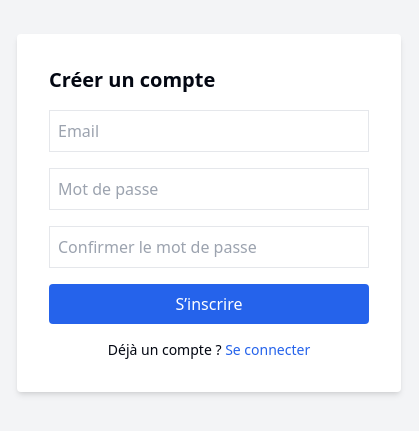
it: SignUp › affiche une erreur si les mots de passe ne correspondent pas
The width and height of the screenshot is (419, 431).
Type "test@mail.com" into the field with placeholder "Email" at [209, 131], box [49, 110, 369, 152]
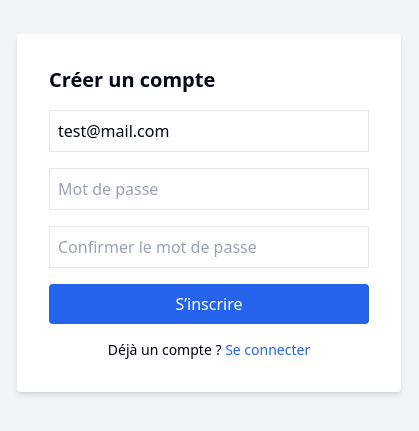
Type "azerty123" into the password field with placeholder "Mot de passe" at [209, 189], box [49, 168, 369, 210]
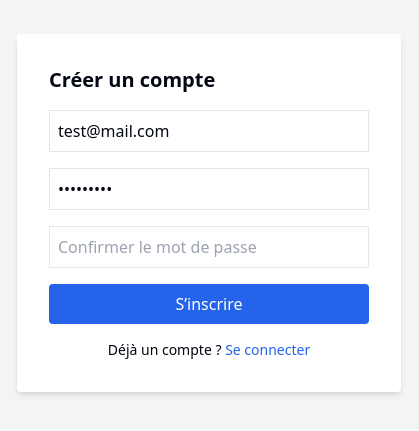
Type "different123" into the password field with placeholder "Confirmer le mot de passe" at [209, 247], box [49, 226, 369, 268]
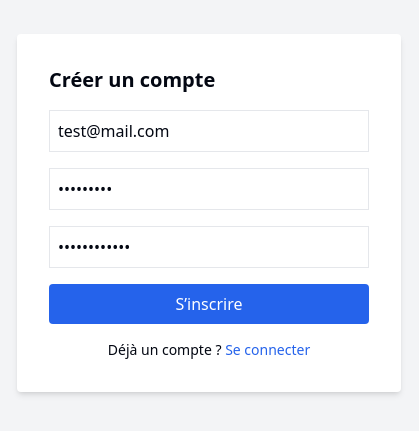
Click the button "S’inscrire" at [209, 304], box [49, 284, 369, 324]
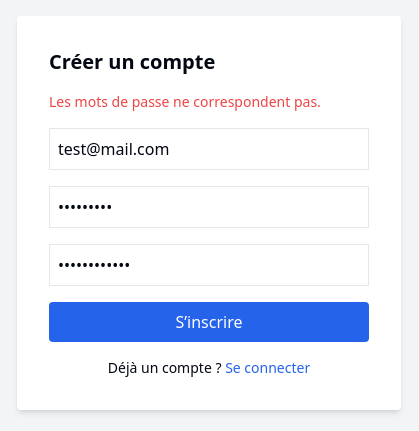
Expected: the text "Les mots de passe ne correspondent pas." is shown, [49, 92, 321, 111]
